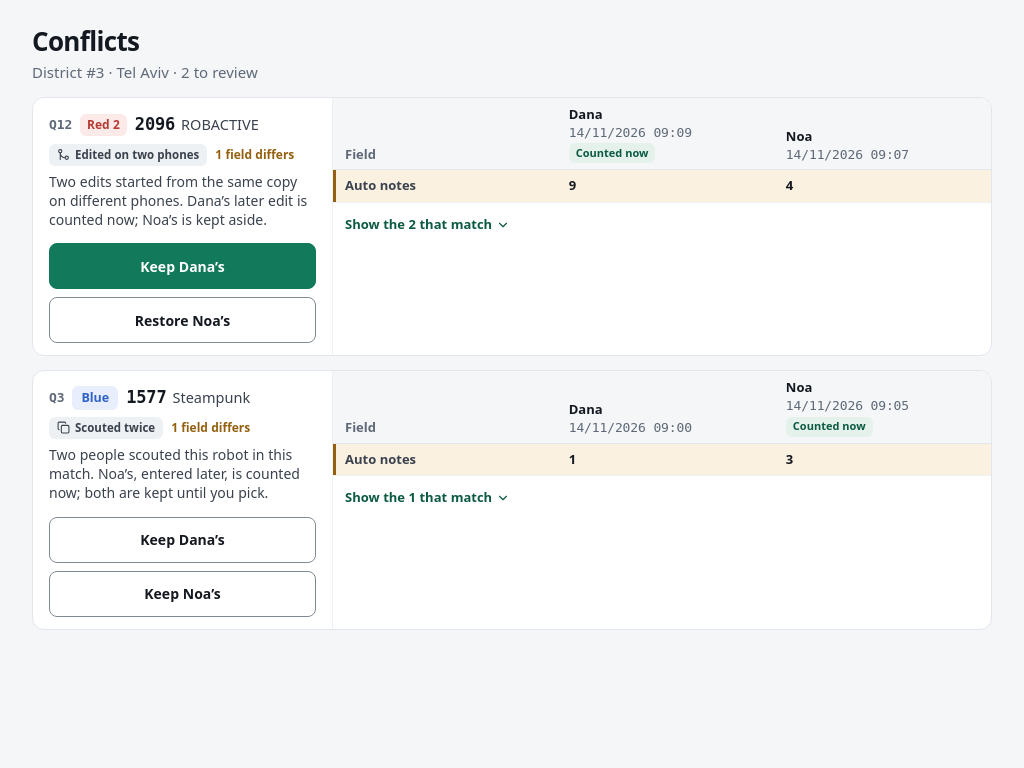
ConflictsPage (SPEC-FINAL 9.5, 9.6; 18-conflicts final) › shows only the differing fields until "Show the n that match", and marks each row
The width and height of the screenshot is (1024, 768).
Expected: the row "Auto notes 9 4" is shown, [333,170,991,202]
Expected: the row "Teleop notes" is not shown
Click the button "Show the 2 that match": (428, 225) [345,207,510,243]
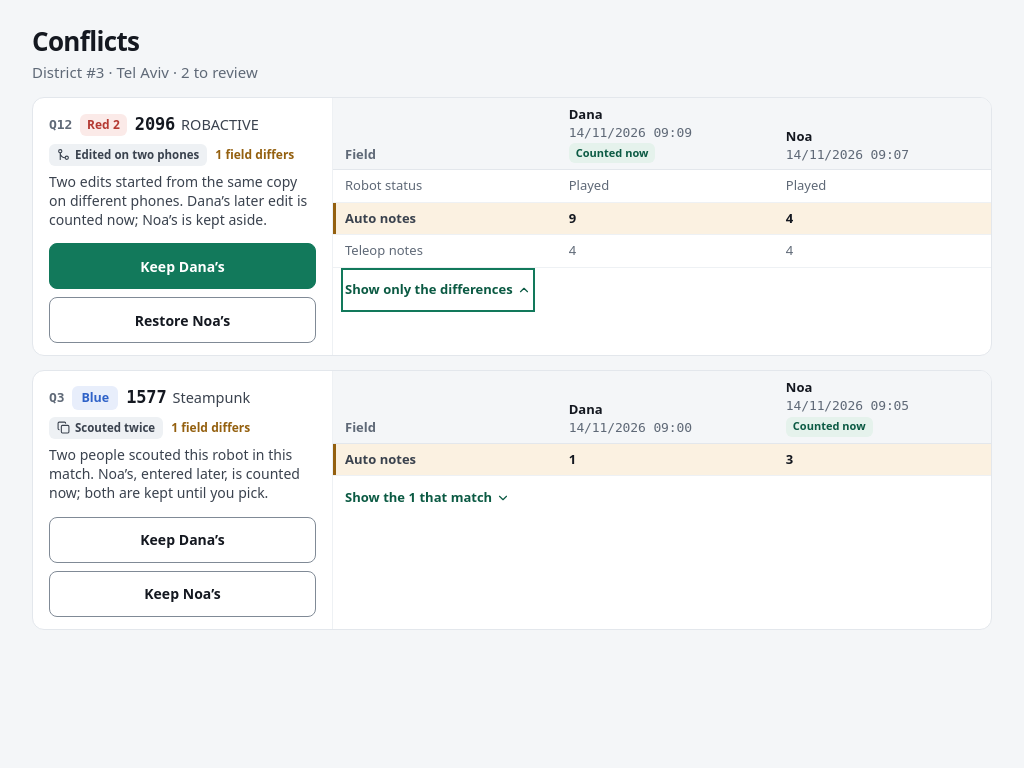
Now the row "Robot status Played Played" is shown, box [333,170,991,202]
Click the button "Show only the differences": (438, 290) [345,272,531,308]
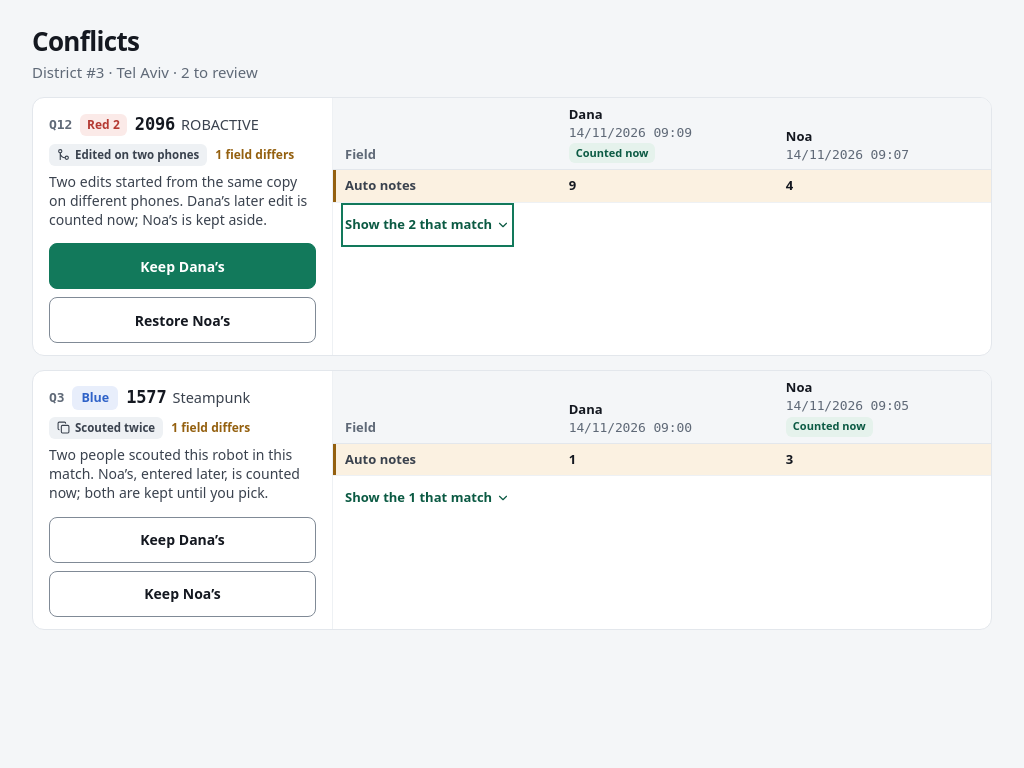
Now the cell "Teleop notes" is gone
